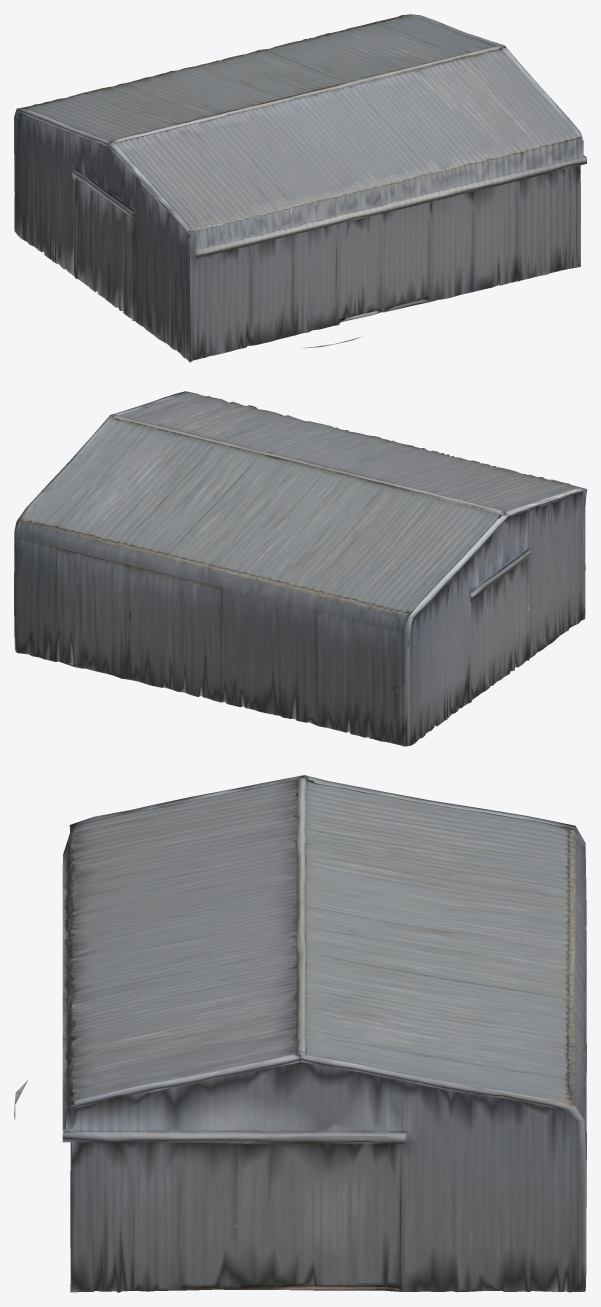
Rendered from galpon.glb.
3 views of the same model, one above another, from view 1: azimuth 30°, elevation 25°; view 2: azimuth 150°, elevation 25°; view 3: azimuth 270°, elevation 25° (orthographic). The views are drawn at different scales.
Bounding box in the file's own units: 2 × 0.7927 × 1.71.
Materials: 1 (1 with a texture image).
